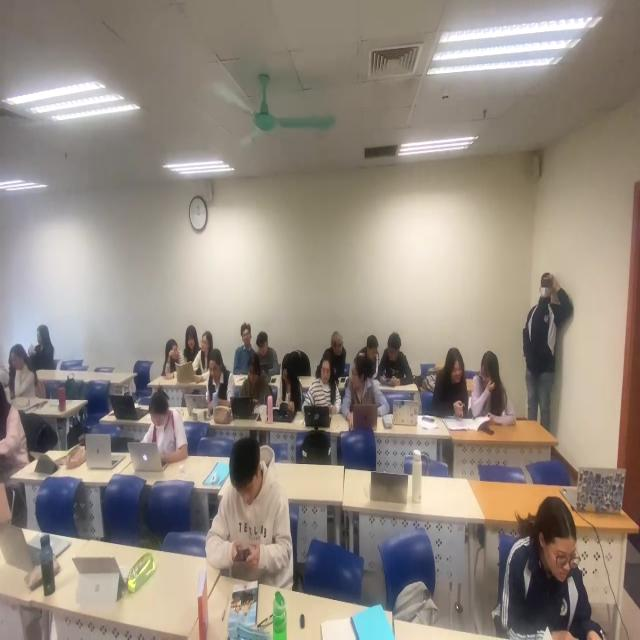raise_head: (230, 313, 263, 383)
read: (274, 352, 305, 420)
sleep: (280, 344, 316, 383)
stand: (521, 263, 576, 444)
using_computer: (491, 487, 628, 640), (123, 386, 198, 481), (184, 347, 238, 422), (229, 351, 276, 424), (250, 327, 281, 384)
using_phone: (202, 430, 303, 611)
